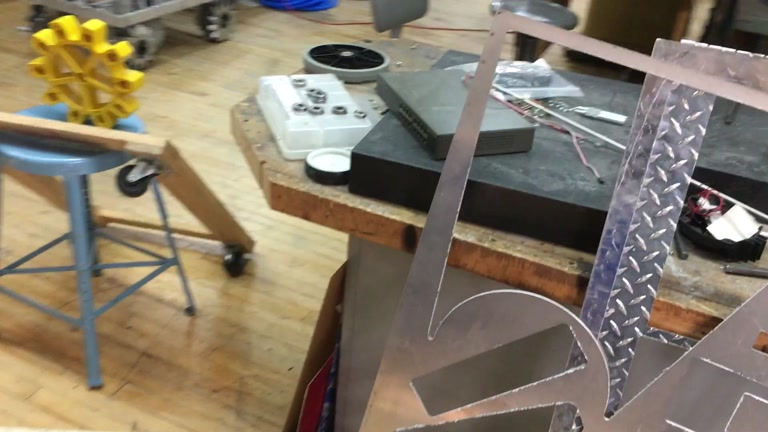gear: (26, 13, 146, 129)
